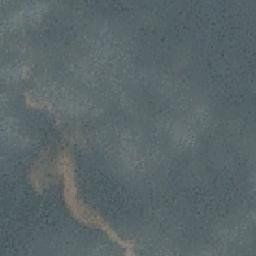debris: (27, 138, 75, 193), (61, 195, 108, 228), (108, 233, 137, 253)
